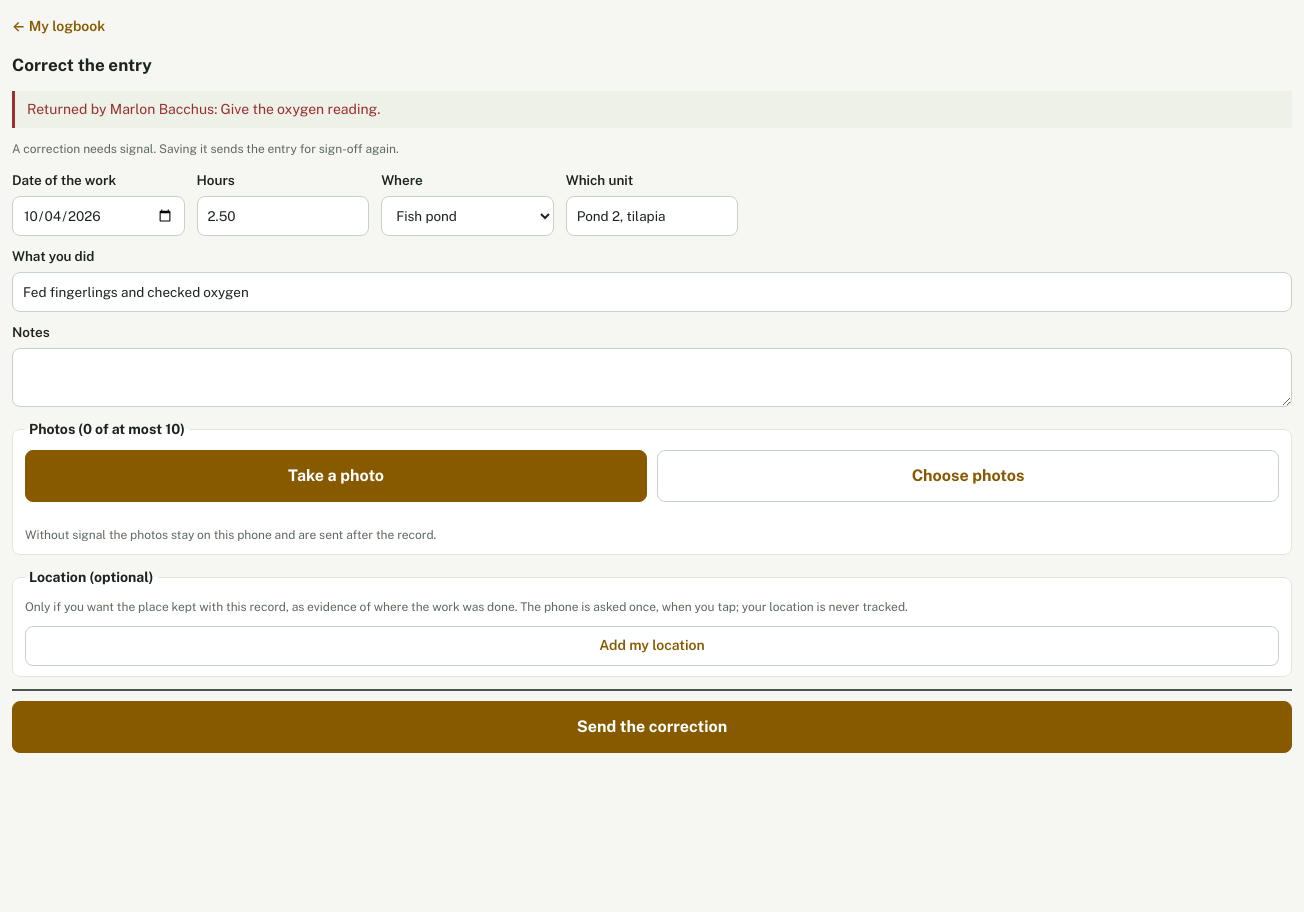
Scenario: a student's logbook (item 3.14) › corrects a returned entry, which needs signal
This screenshot has width=1304, height=912.
Expected: the text "Returned by Marlon Bacchus: Give the oxygen reading." is shown, 12,90 -> 1292,128
Expected: the field labelled "What you did" holds "Fed fingerlings and checked oxygen", 12,272 -> 1292,312
Type "Oxygen 6.1 mg/l." into the text box labelled "Notes" at (652, 378), box 12,348 -> 1292,407
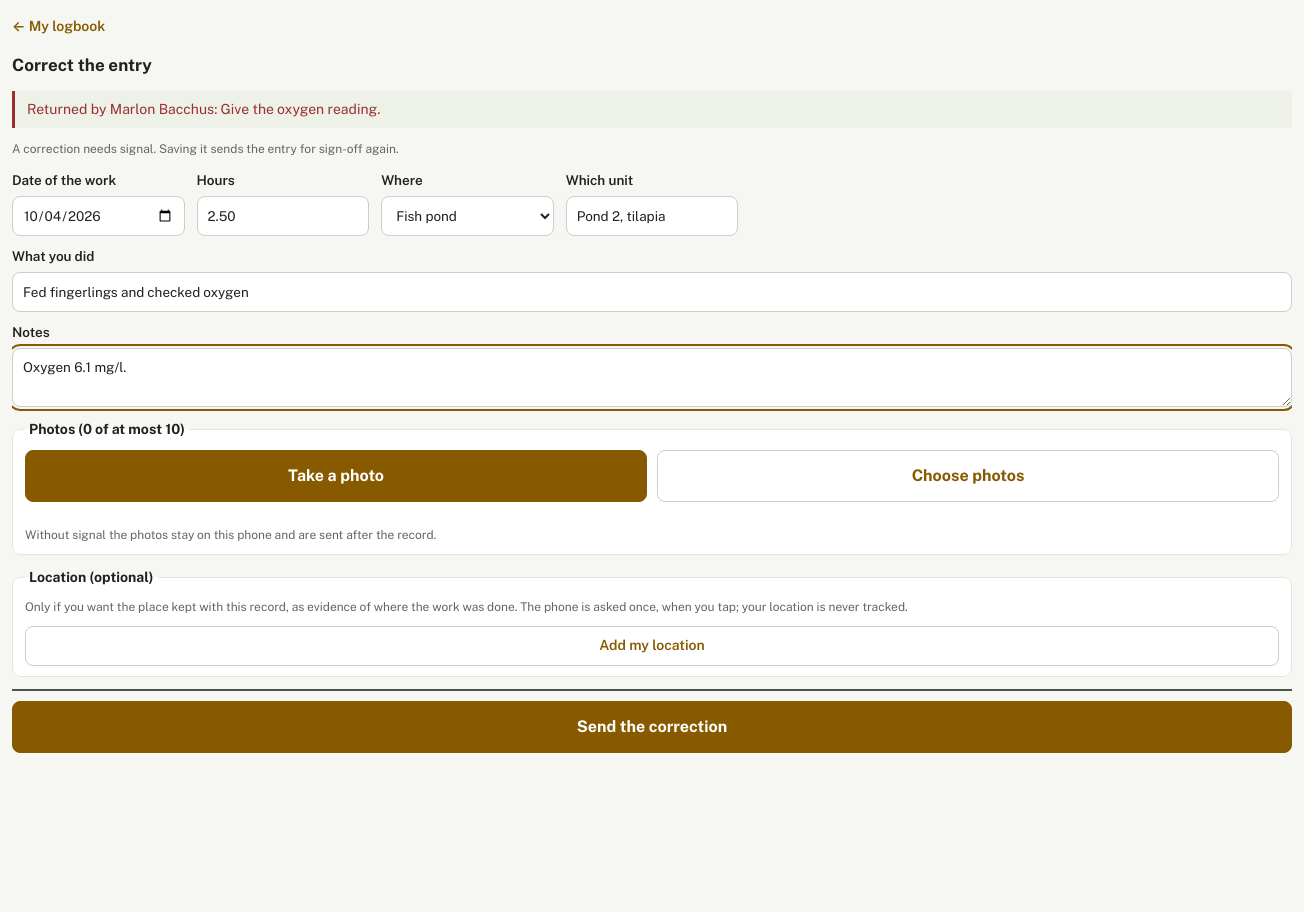
Click the button "Send the correction" at (652, 727), box 12,701 -> 1292,753
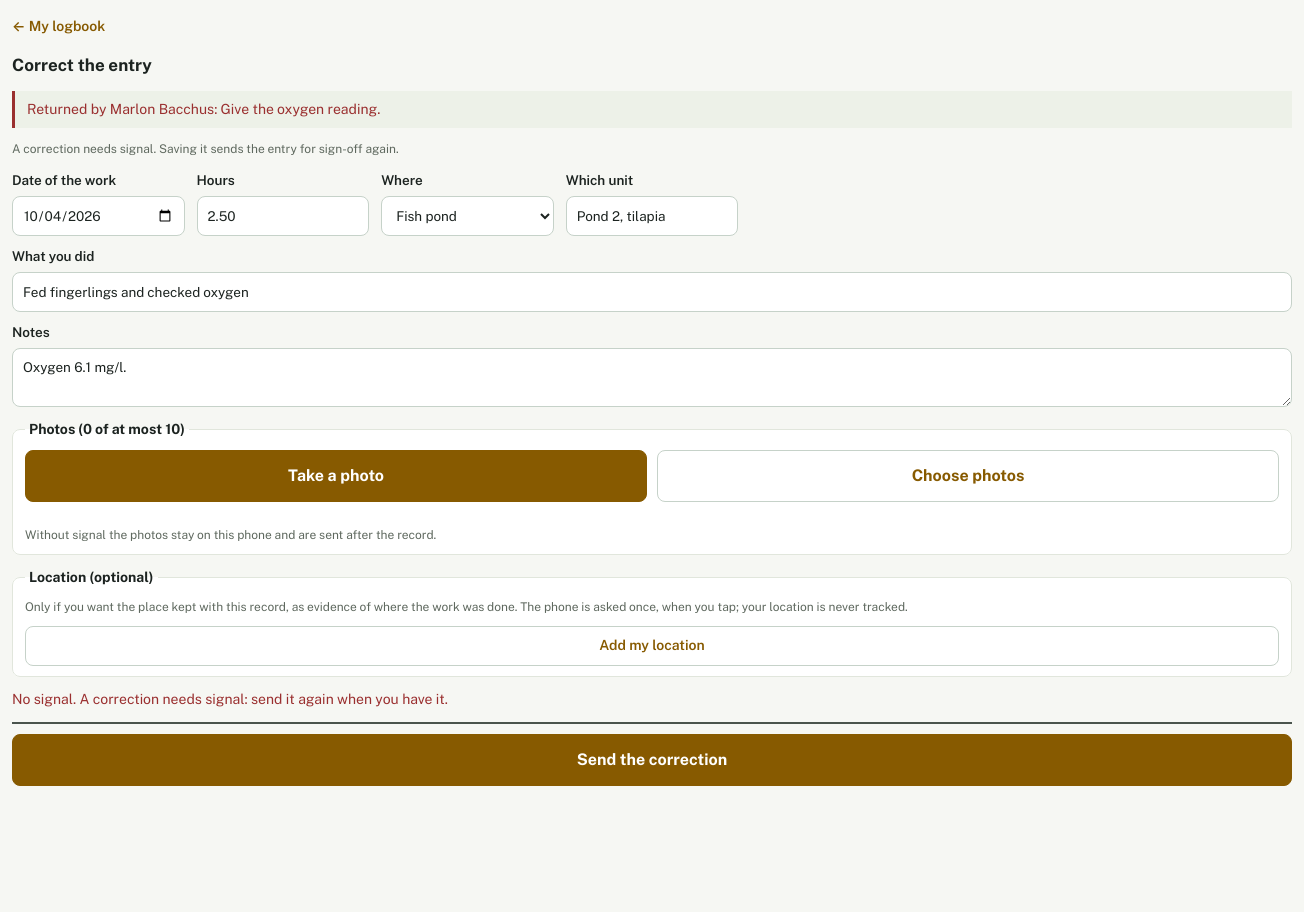
Now the message shows "A correction needs signal", box 12,691 -> 448,707
Click the button "Send the correction" at (652, 760), box 12,734 -> 1292,786
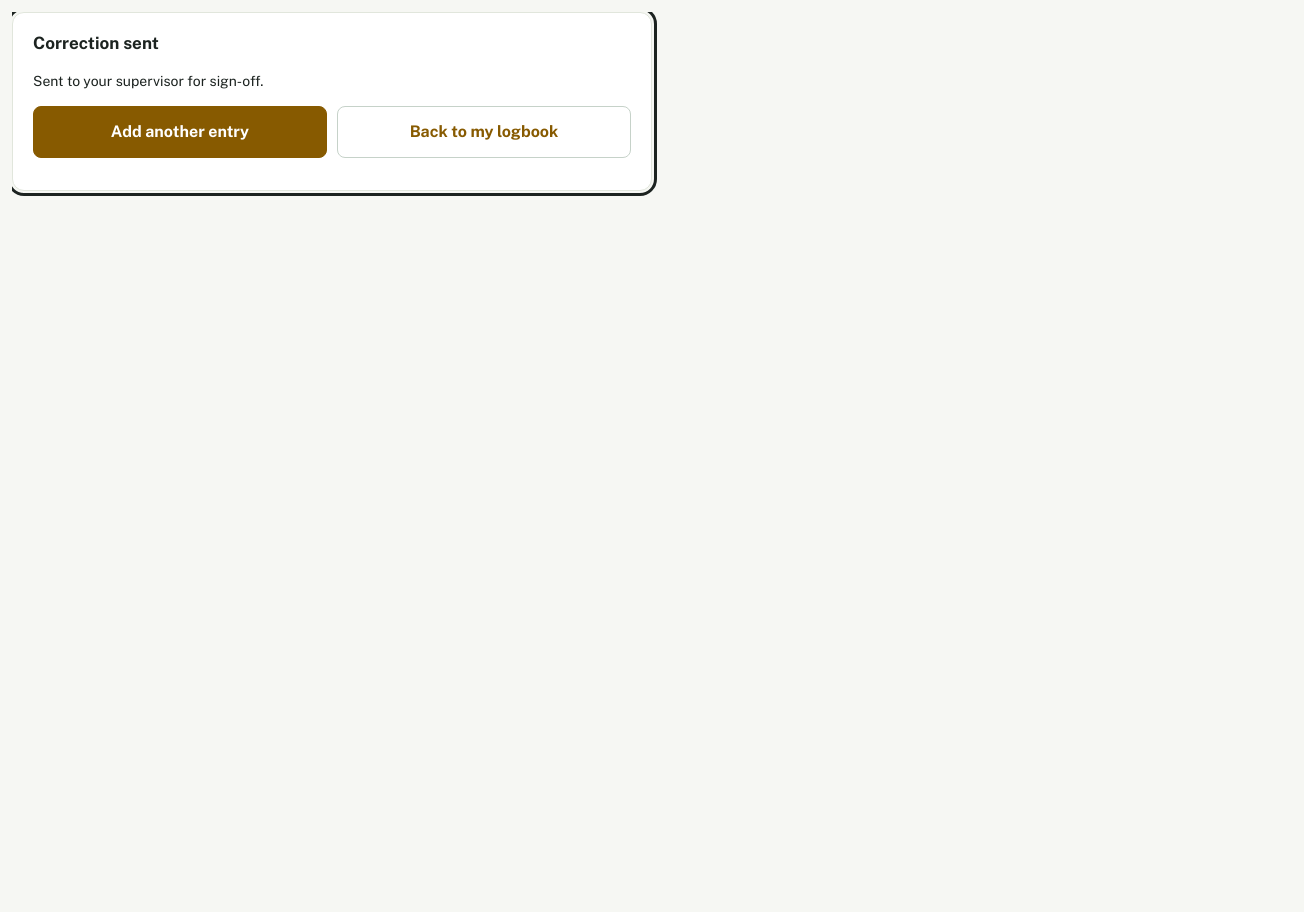
Now the heading "Correction sent" is shown, box 33,33 -> 159,53
